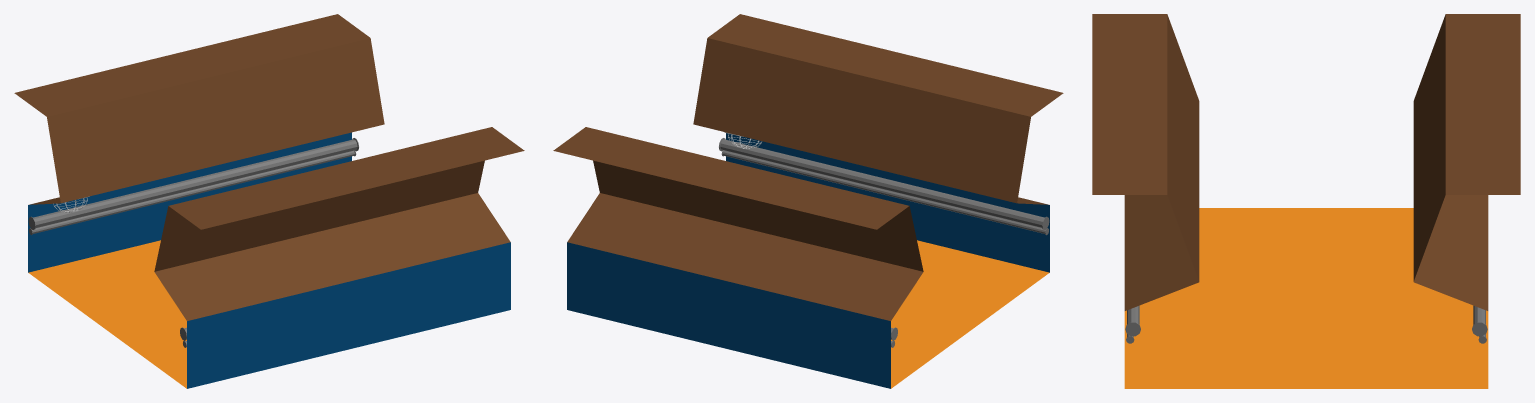
File: Straight.fbx
3 views of the same model, side by side, from view 1: azimuth 30°, elevation 25°; view 2: azimuth 150°, elevation 25°; view 3: azimuth 270°, elevation 25° (orthographic). The views are drawn at different scales.
Visible parts, largest first — view 1: Straight, Cylinder.003; view 2: Straight, Cylinder.002; view 3: Straight, Cylinder.002, Cylinder.003.
Boxes of the visible parts, x1,y1,x2,y2 form: Straight: (14, 14, 524, 388); Cylinder.003: (28, 138, 358, 235); Straight: (553, 14, 1063, 388); Cylinder.002: (719, 138, 1049, 235); Straight: (1092, 14, 1520, 388); Cylinder.002: (1125, 305, 1140, 343); Cylinder.003: (1472, 305, 1487, 343).
Bounding box in the file's own units: 4 × 2 × 4.
Materials: 3 (1 with a texture image).
